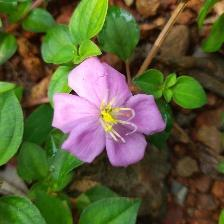malabar melastome: (53, 57, 168, 169)
